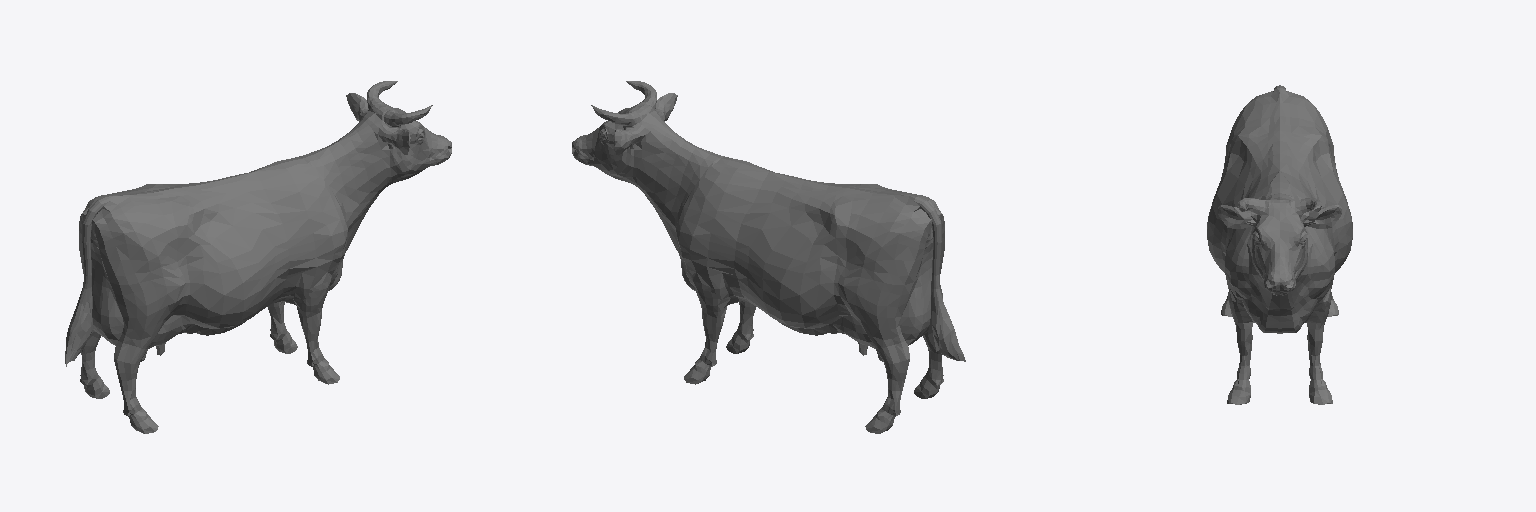
The model's file is cow.obj.
The picture shows the model from 3 angles: view 1: azimuth 30°, elevation 25°; view 2: azimuth 150°, elevation 25°; view 3: azimuth 270°, elevation 25°; orthographic projection.
Parts seen in each view (by area): view 1: cow:Mesh; view 2: cow:Mesh; view 3: cow:Mesh.
Part boxes in pixels (left/top/right/bottom): cow:Mesh: left=65, top=81, right=451, bottom=433; cow:Mesh: left=572, top=81, right=965, bottom=433; cow:Mesh: left=1207, top=85, right=1352, bottom=404.
Size of the model in its own units: 0.9695 by 0.5938 by 0.3159.